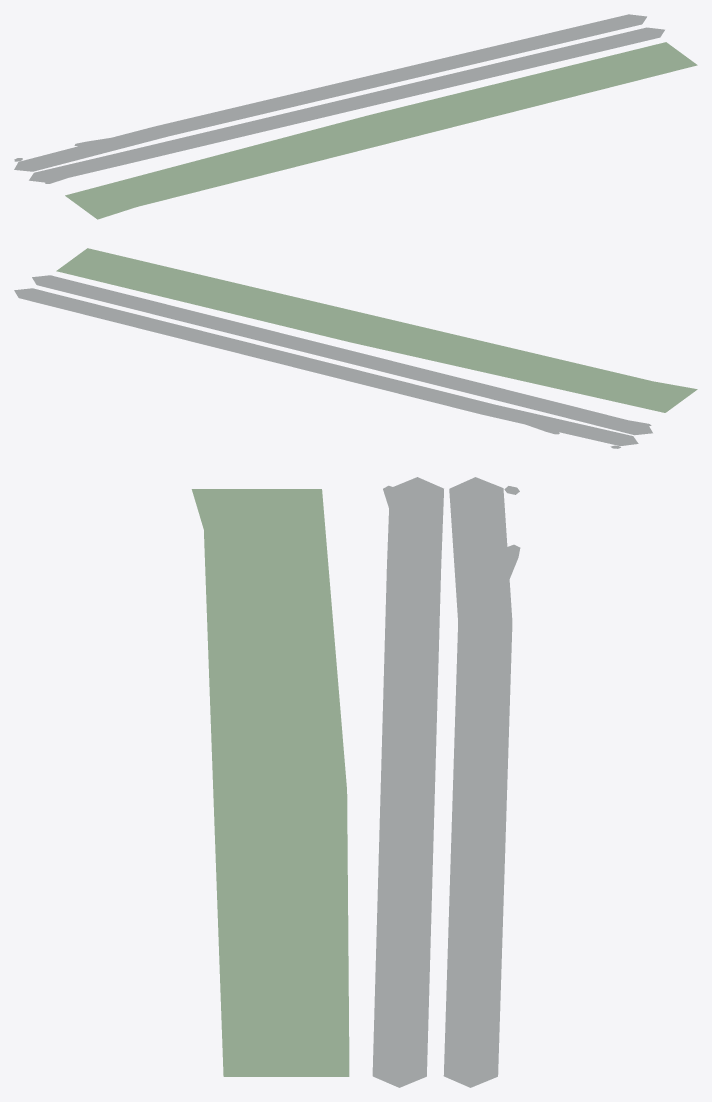
Rendered from -10_3-known-fine.glb.
3 views of the same model, one above another, from view 1: azimuth 30°, elevation 25°; view 2: azimuth 150°, elevation 25°; view 3: azimuth 270°, elevation 25° (orthographic). The views are drawn at different scales.
Size of the model in its own units: 319 by 0.1 by 72.65.
